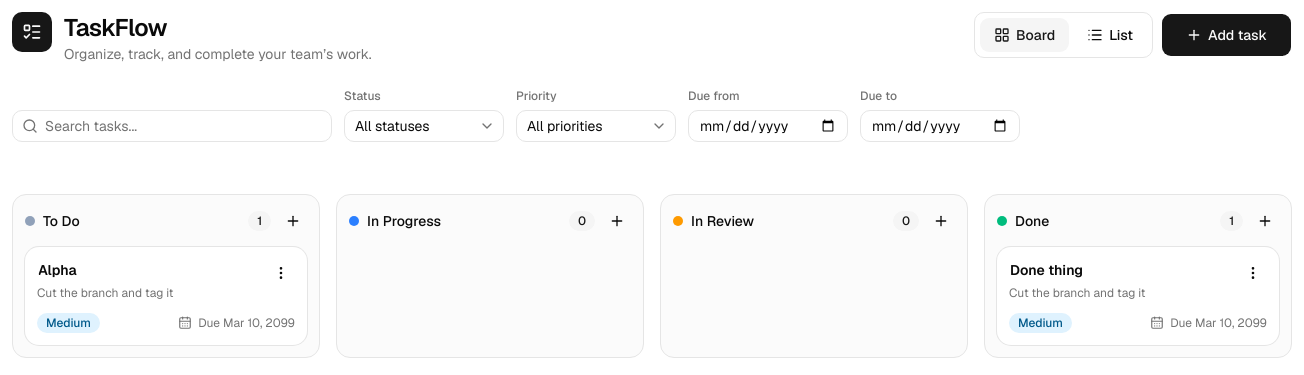
filtering › filters the board by status via the toolbar
Expected: the button "Alpha" is shown, [37, 259, 263, 281]
Click the dropdown named "filter by status": {"x": 424, "y": 126} [344, 110, 504, 142]
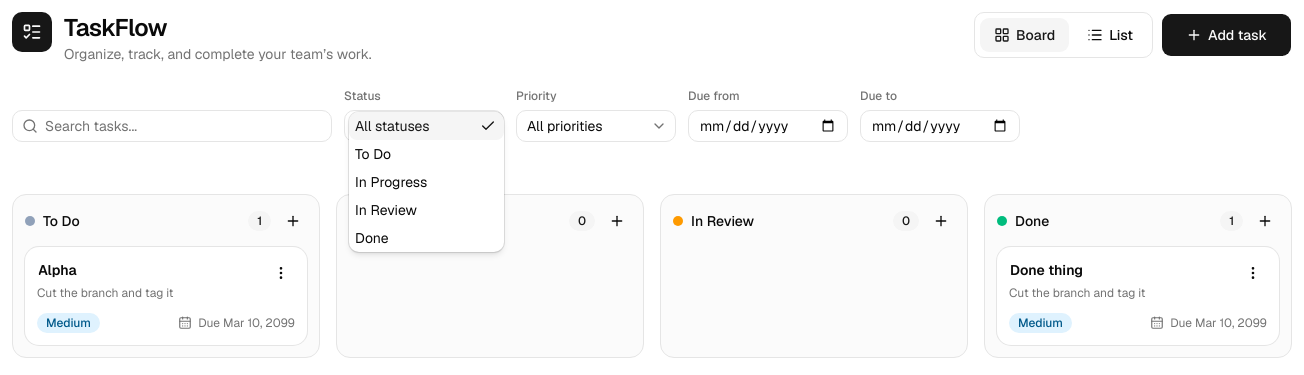
Click the option "Done": {"x": 372, "y": 238} [355, 229, 389, 247]
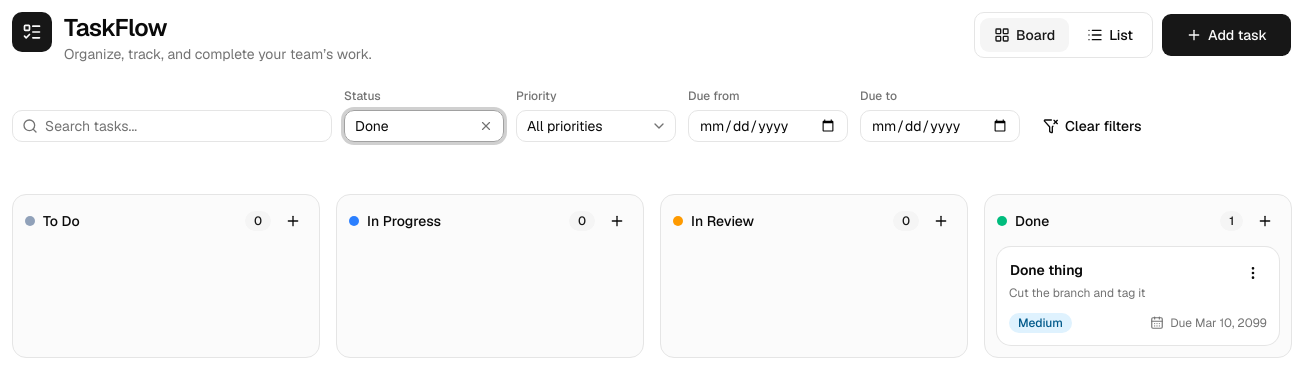
Expected: the button "Done thing" is shown, [1009, 259, 1235, 281]
Expected: the button "Alpha" is gone
